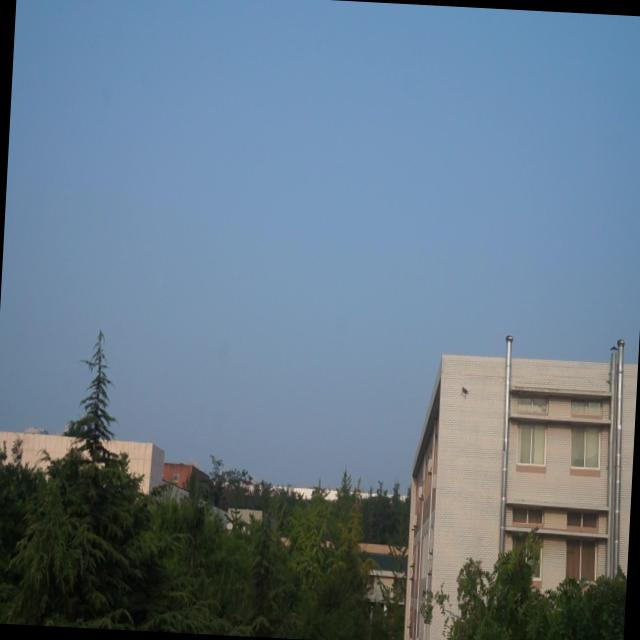drone: (458, 381, 470, 403)
